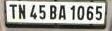0: (76, 4, 84, 20)
1: (69, 3, 75, 19)
4: (29, 3, 37, 19)
5: (94, 4, 102, 20), (37, 4, 45, 18)
6: (85, 4, 93, 19)
A: (57, 3, 67, 20)
B: (48, 3, 56, 19)
N: (17, 3, 25, 18)
T: (7, 2, 16, 19)
